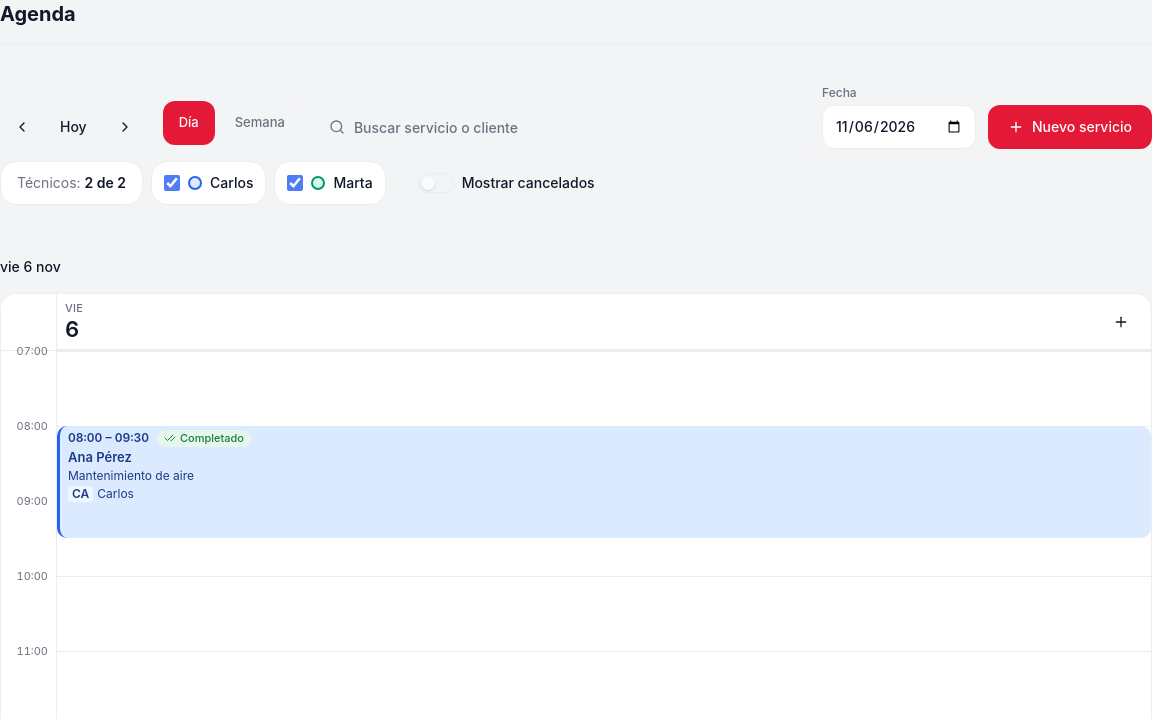
Test: AgendaPage: ficha de la cita › deshabilita las acciones de una cita cerrada y explica por qué
What coordinates should you click on to do the following:
click the button "Ana Pérez"
I would click on:
 (108, 438)
Its box is [57, 426, 1151, 538].
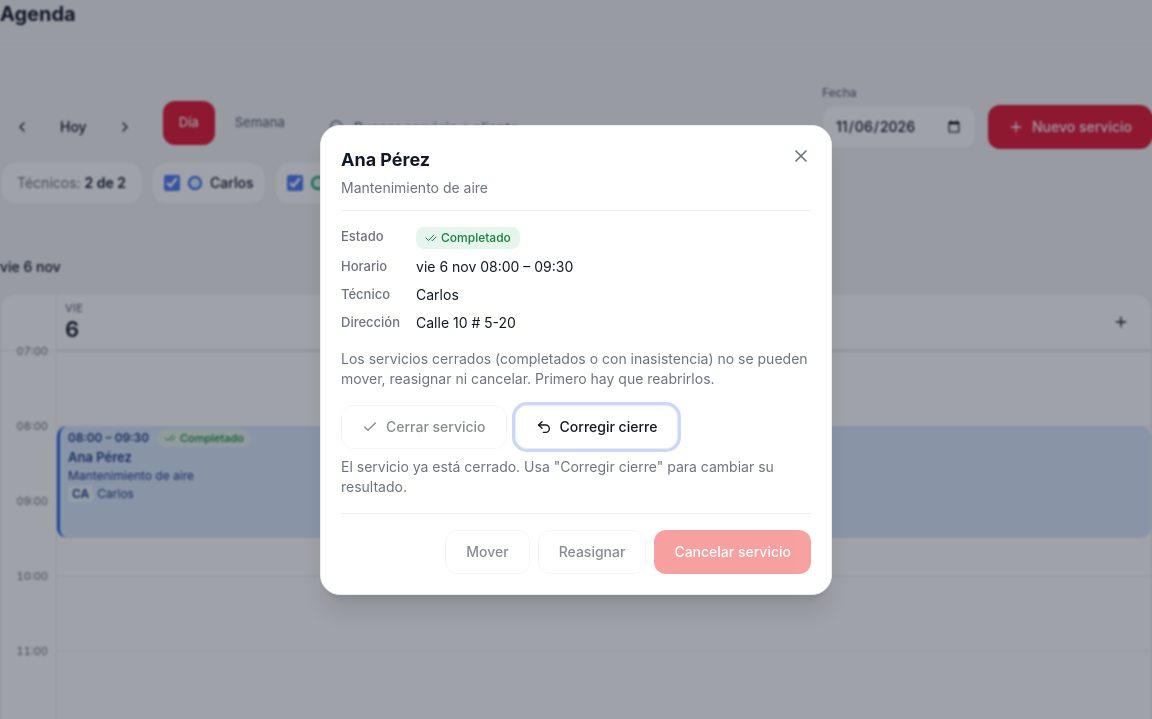
Now the button "Mover" is disabled, box [445, 530, 530, 574]
Now the dialog "Ana Pérez" shows "Primero hay que reabrirlos.", box [341, 350, 808, 387]
